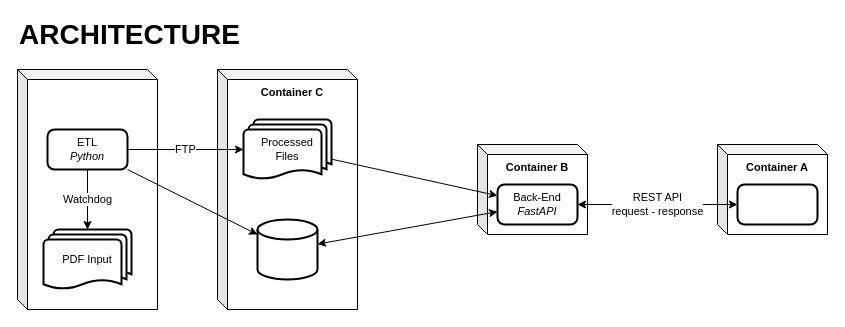
This 845x327 diagram has some shape labels left out. Here are the shapes that lost their labels. From the top down, the box of each, then its label:
(16, 68, 158, 310): Container D
(736, 183, 818, 225): Front-End Streamlit
(256, 218, 318, 280): Database Postgres
